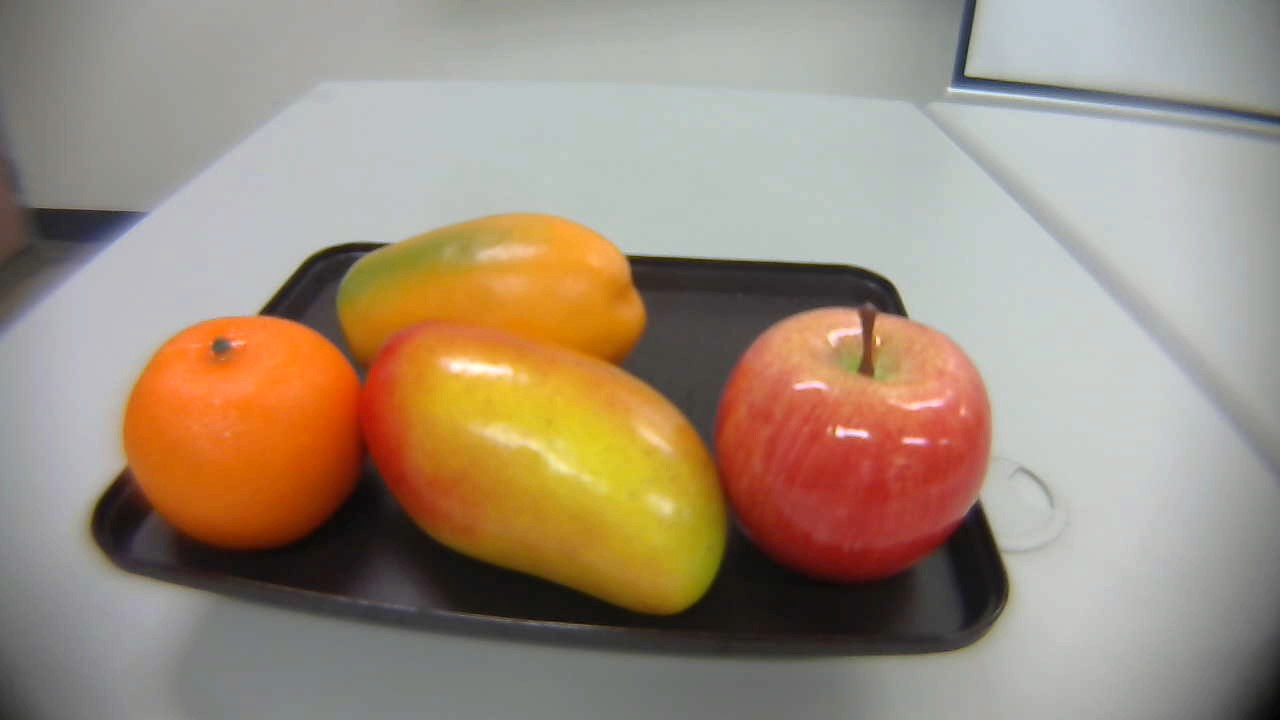orange: (122, 308, 367, 553)
papya: (332, 208, 658, 406)
red apple: (715, 301, 995, 593)
red mango: (348, 313, 740, 609)
